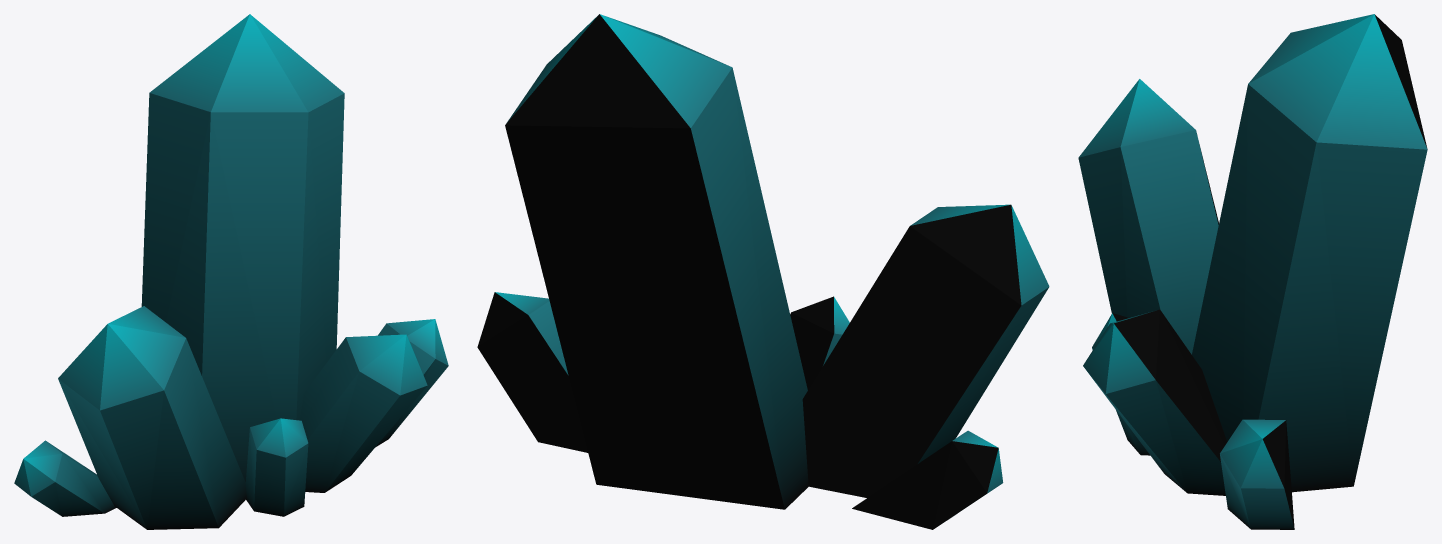
The model's file is quarts.glb.
3 renders of one model, left to right at view 1: azimuth 30°, elevation 25°; view 2: azimuth 150°, elevation 25°; view 3: azimuth 270°, elevation 25°, orthographic. The views are drawn at different scales.
Visible parts, largest first — view 1: Quarts.001; view 2: Quarts.002, Quarts.001; view 3: Quarts.001, Quarts.002.
Boxes of the visible parts, box(x1,y1,x2,y2) form: Quarts.001: box(14, 14, 448, 529); Quarts.002: box(477, 14, 1021, 529); Quarts.001: box(495, 14, 1049, 520); Quarts.001: box(1078, 14, 1427, 529); Quarts.002: box(1112, 14, 1427, 528).
Bounding box in the file's own units: 4.94 × 4.56 × 3.07.
